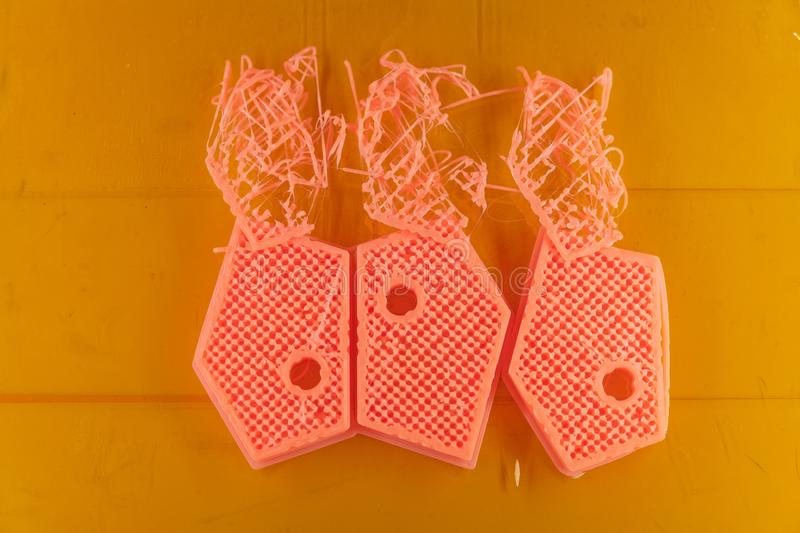Spaghetti: (340, 39, 501, 234), (503, 48, 648, 245), (192, 44, 339, 234)
